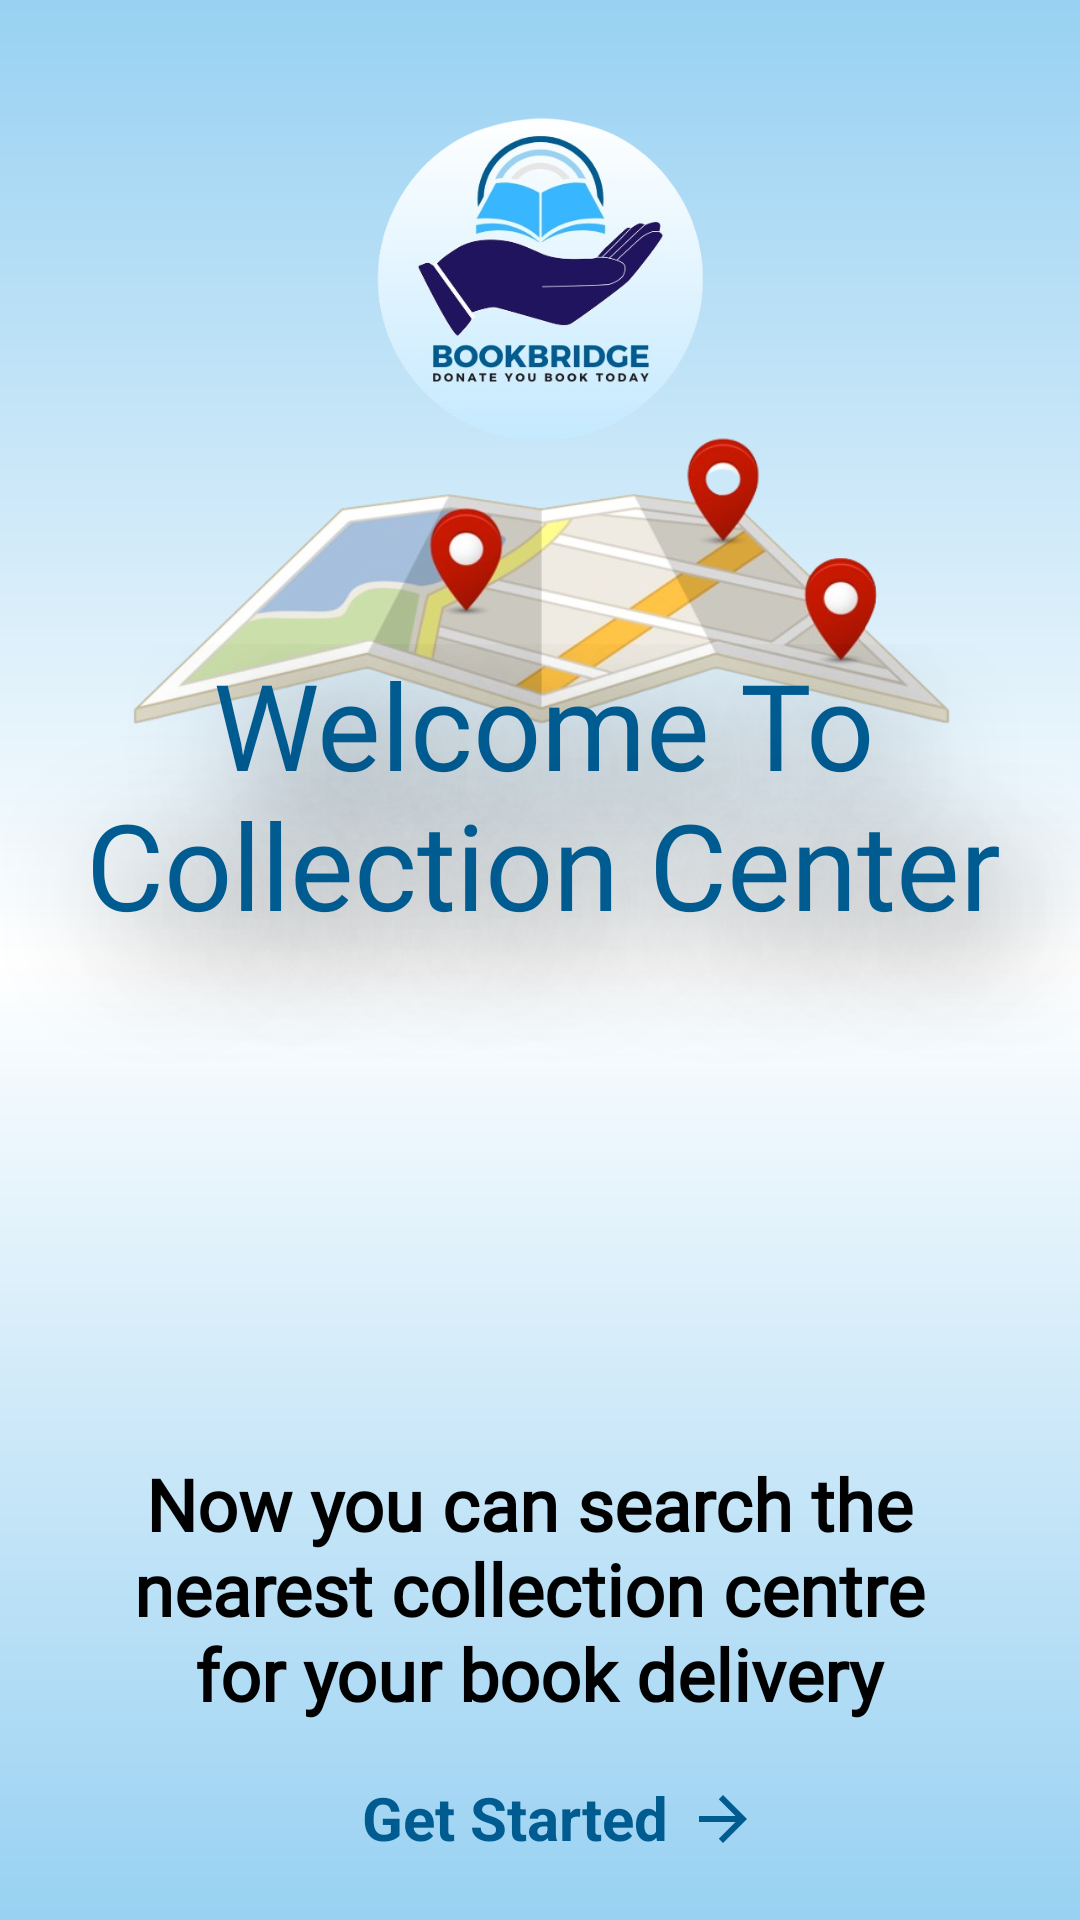

Where icons sit on this 1080*1920 app screen, as (x1, y1, x2, y2):
arrow forward: (699, 1795, 747, 1843)
